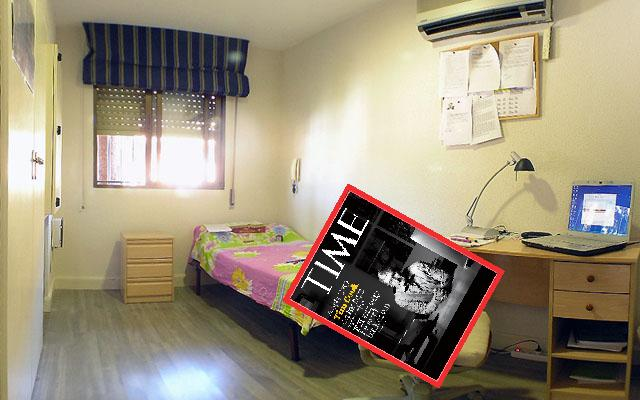times: (281, 182, 508, 389)
